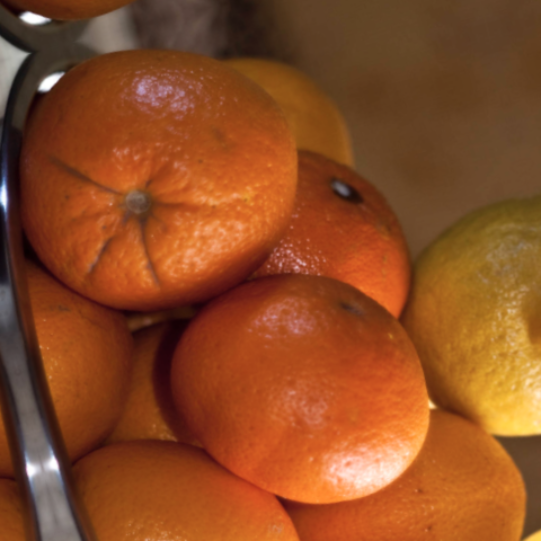orange: (133, 209, 499, 541), (0, 0, 337, 350)
